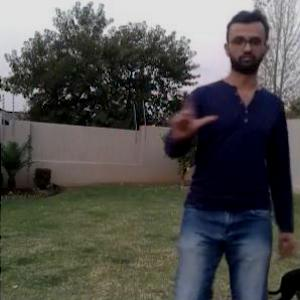land_hand: (166, 78, 219, 141)
